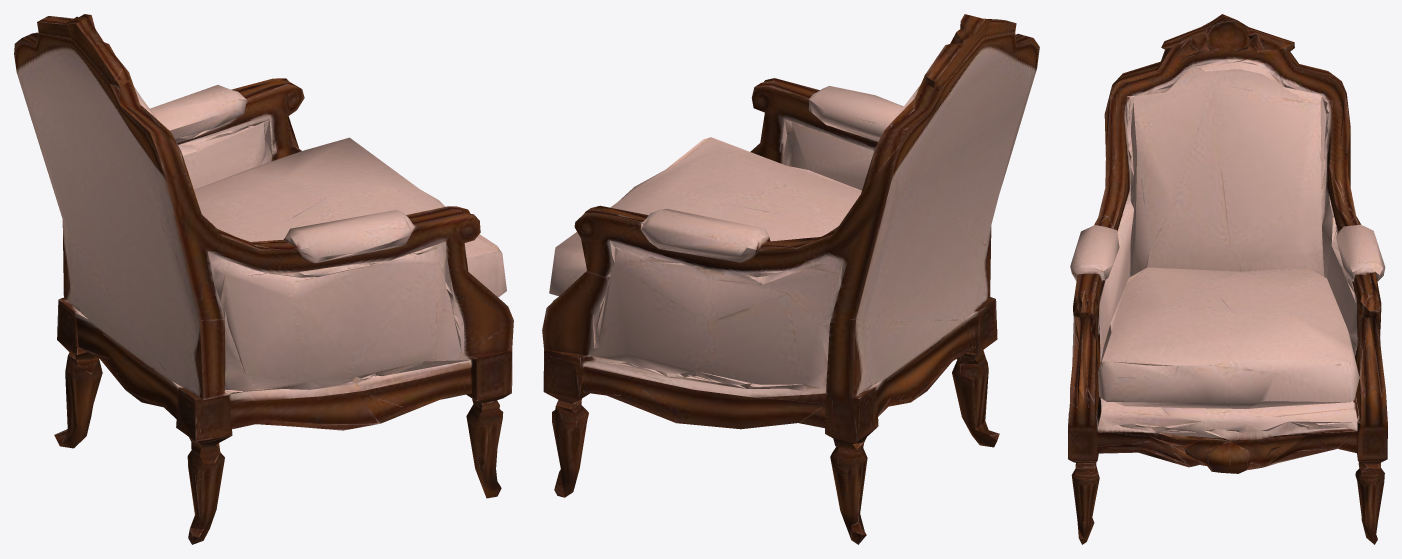
Rendered from mj-restaurant-armchair-louis-xvi.glb.
3 renders of one model, left to right at view 1: azimuth 30°, elevation 25°; view 2: azimuth 150°, elevation 25°; view 3: azimuth 270°, elevation 25°, orthographic. The views are drawn at different scales.
Parts seen in each view (by area): view 1: mj-restaurant-armchair-louis-xvi; view 2: mj-restaurant-armchair-louis-xvi; view 3: mj-restaurant-armchair-louis-xvi.
Part boxes in pixels (x1,y1,x2,y2): mj-restaurant-armchair-louis-xvi: (14,14,513,544); mj-restaurant-armchair-louis-xvi: (542,14,1039,544); mj-restaurant-armchair-louis-xvi: (1068,14,1387,544).
Bounding box in the file's own units: 0.7143 × 0.92 × 0.6658.
1 material, 1 textured.
